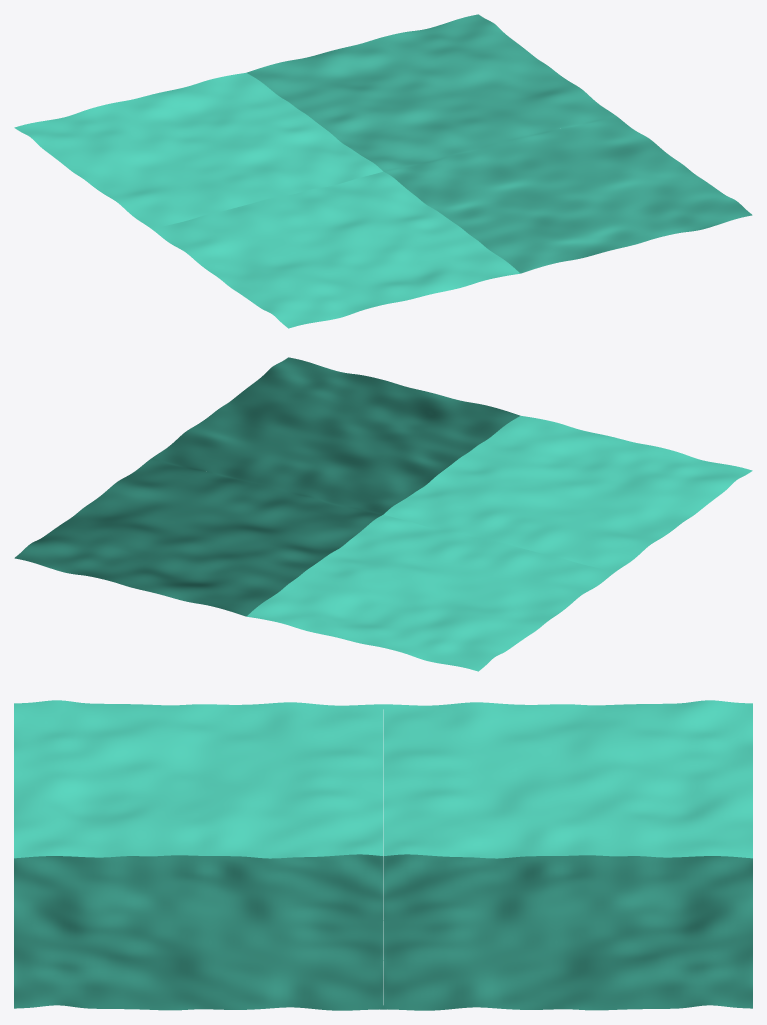
Rendered from grass.obj.
The picture shows the model from 3 angles, top to bottom: view 1: azimuth 30°, elevation 25°; view 2: azimuth 150°, elevation 25°; view 3: azimuth 270°, elevation 25°; orthographic projection. The views are drawn at different scales.
Visible parts, largest first — view 1: 1, 2, 3, 4; view 2: 3, 4, 1, 2; view 3: 4, 2, 3, 1.
Boxes of the visible parts, bbox=[...] form: 1: bbox=[246, 14, 615, 171]; 2: bbox=[14, 73, 382, 228]; 3: bbox=[384, 115, 752, 273]; 4: bbox=[151, 171, 520, 328]; 3: bbox=[151, 357, 520, 514]; 4: bbox=[384, 416, 752, 571]; 1: bbox=[14, 458, 382, 616]; 2: bbox=[246, 514, 615, 671]; 4: bbox=[14, 700, 383, 858]; 2: bbox=[383, 700, 752, 858]; 3: bbox=[14, 854, 383, 1010]; 1: bbox=[383, 854, 752, 1010].
Bounding box in the file's own units: 554 × 7.27 × 567.
